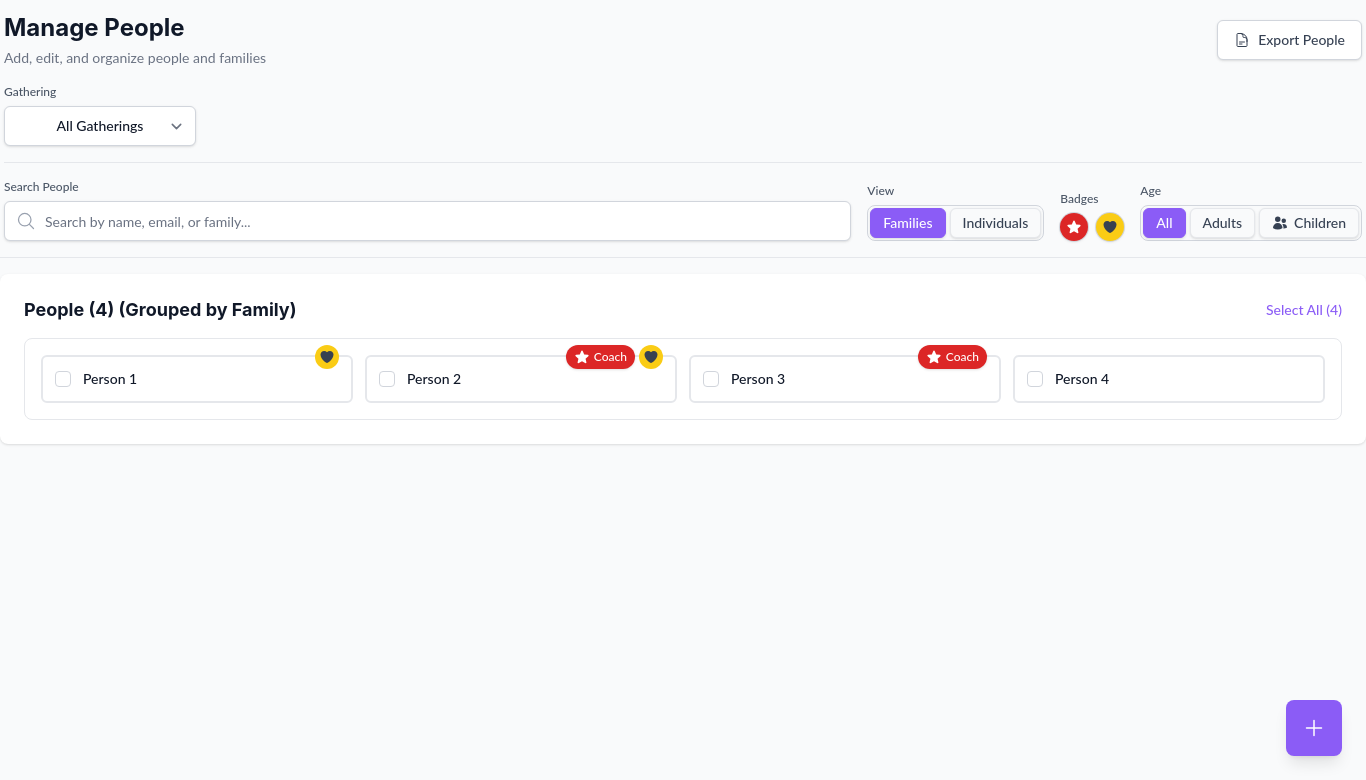
Test: PeoplePage badge filter › filters medical-only and medical-plus-ordinary people using the configured medical badge
This screenshot has width=1366, height=780.
Click the button named "Filter by badge: Medical note recorded".
click(1110, 227)  # box [1096,213,1124,241]
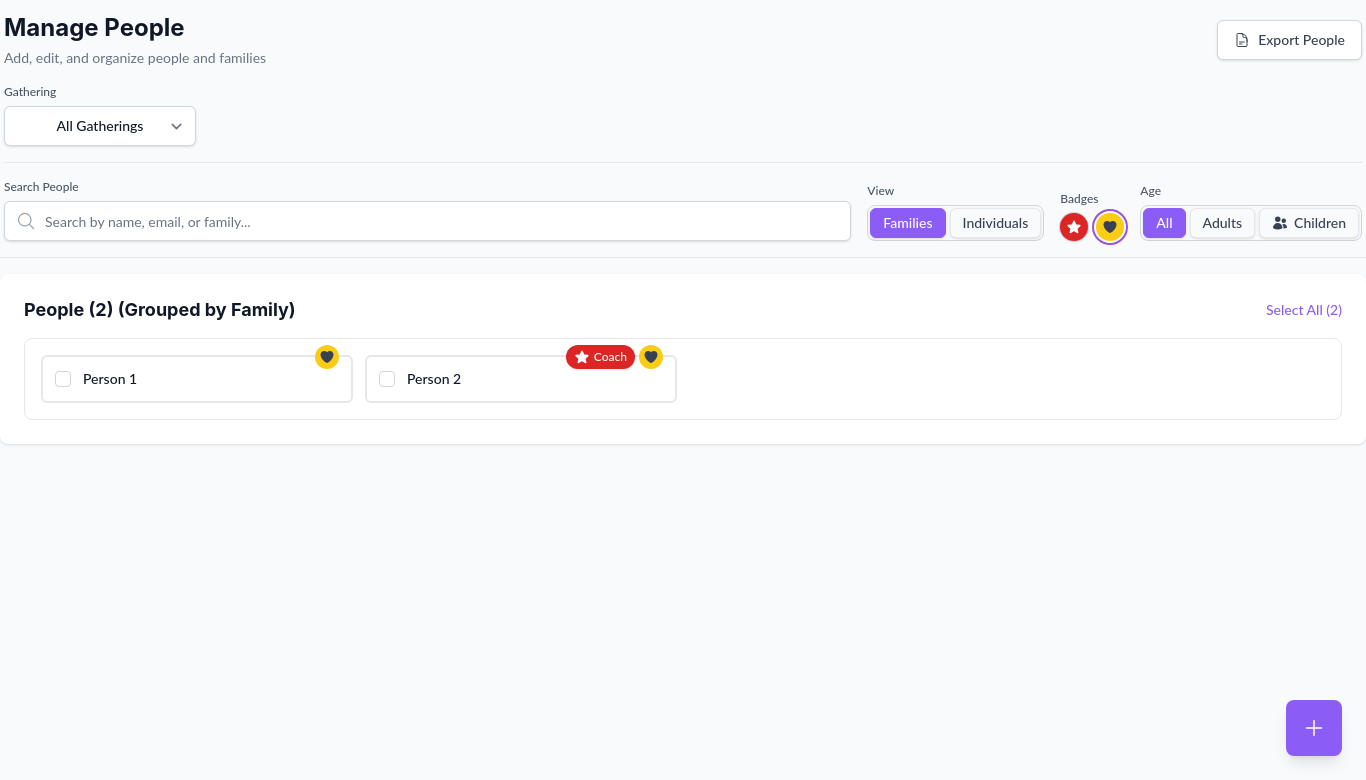
Now the text "Person 3" is gone
Now the text "Person 4" is gone
Now the heading "People (2) (Grouped by Family)" is shown, box [24,298,296,322]
Click the button named "Filter by badge: Coach".
click(1074, 227)  # box [1060,213,1088,241]
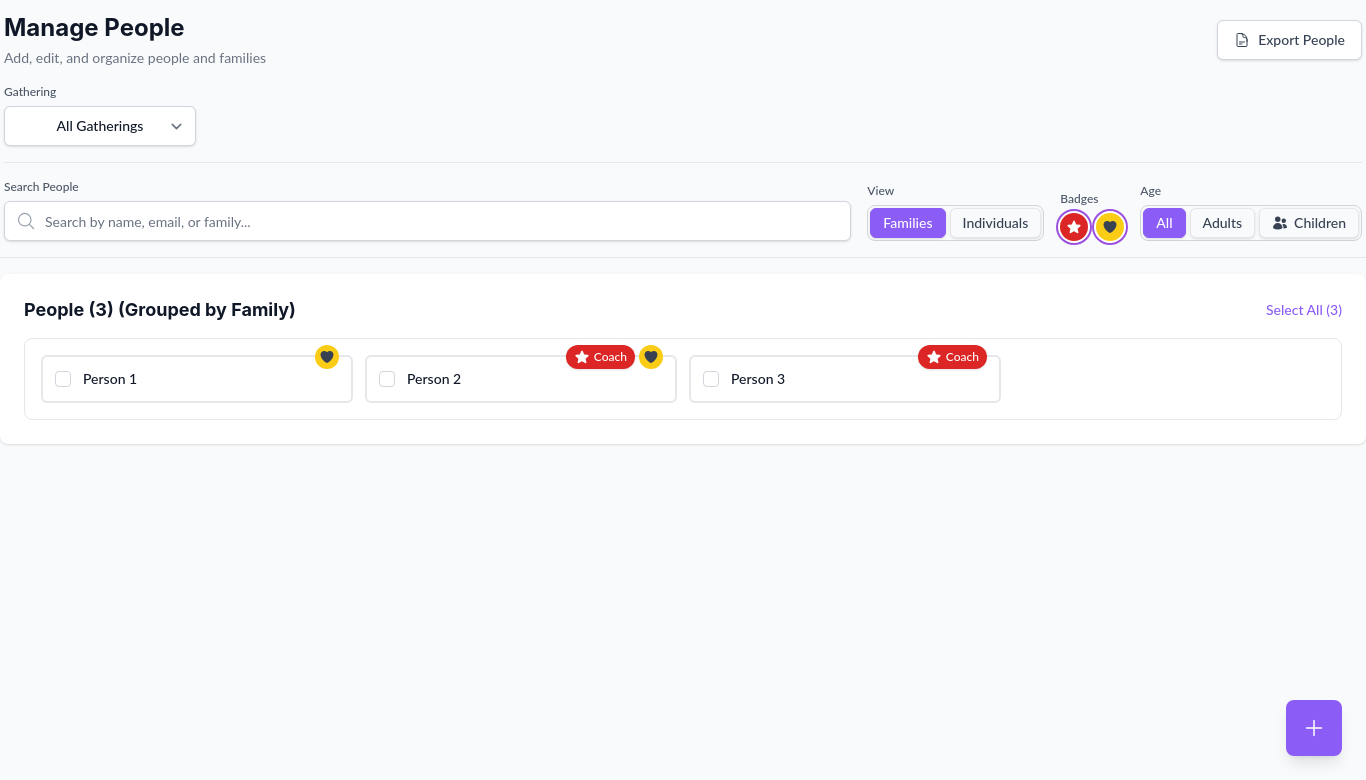
Expected: the text "Person 1" is shown, [83,369,137,389]
Now the text "Person 3" is shown, box [731,369,785,389]
